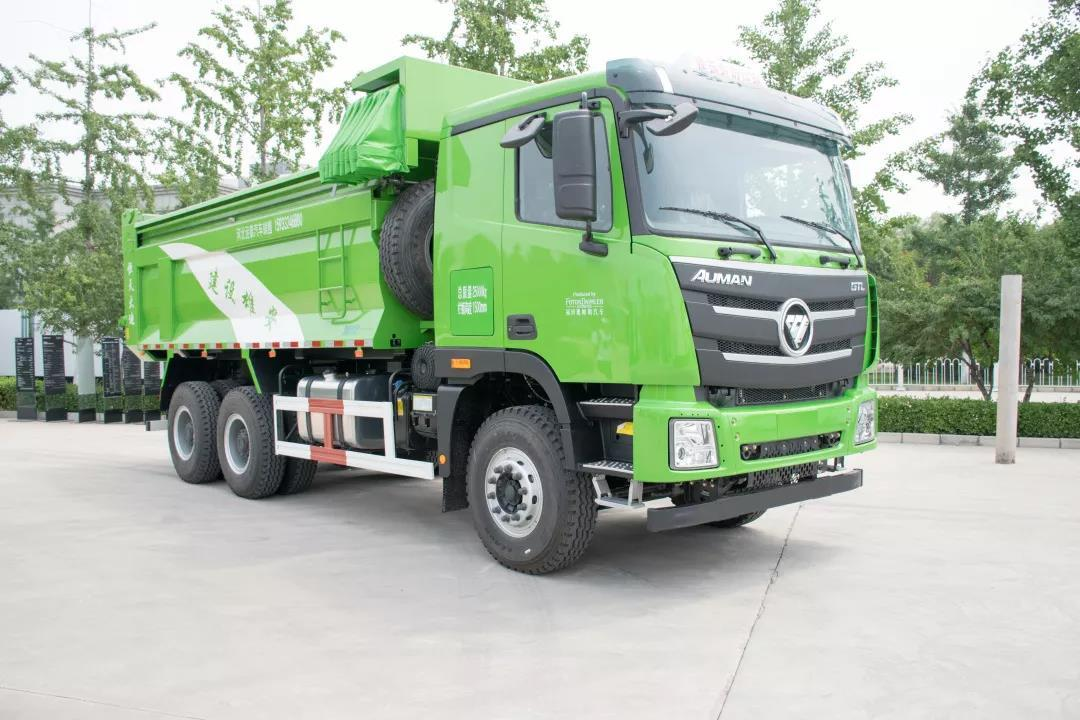truck: (106, 33, 898, 581)
